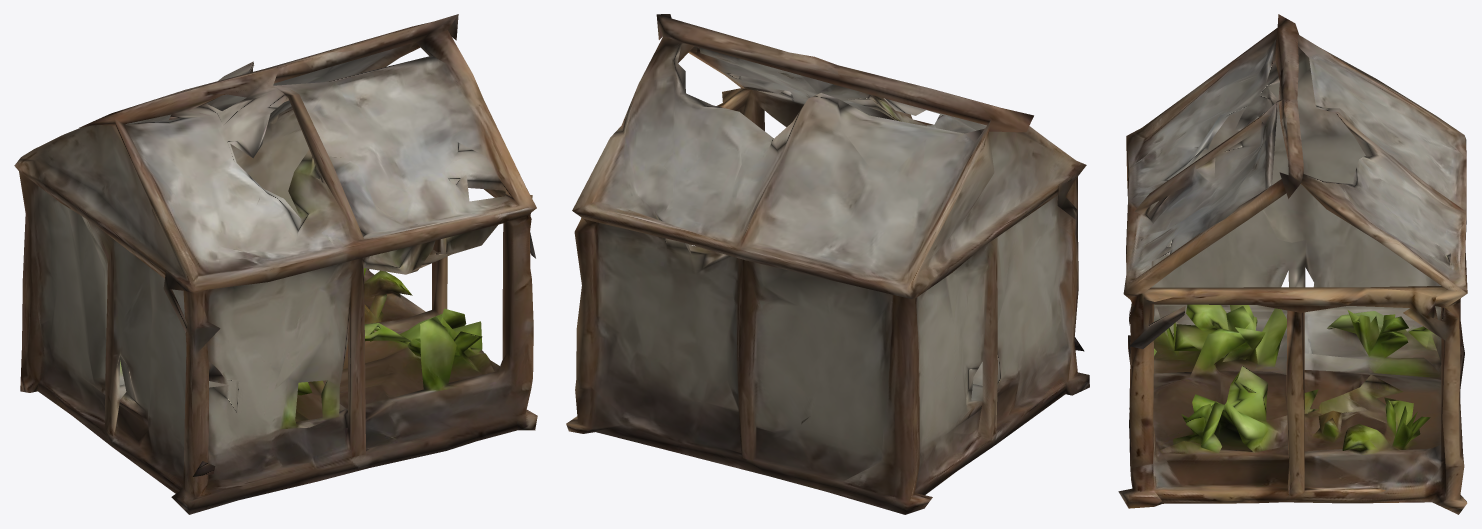
Rendered from b_greenhouse.glb.
3 views of the same model, side by side, from view 1: azimuth 30°, elevation 25°; view 2: azimuth 150°, elevation 25°; view 3: azimuth 270°, elevation 25° (orthographic). The views are drawn at different scales.
Parts seen in each view (by area): view 1: tripo_node_43fa3088-0441-48db-879c-4e6a35383af3; view 2: tripo_node_43fa3088-0441-48db-879c-4e6a35383af3; view 3: tripo_node_43fa3088-0441-48db-879c-4e6a35383af3.
Boxes of the visible parts, x1,y1,x2,y2 form: tripo_node_43fa3088-0441-48db-879c-4e6a35383af3: (14,14,537,514); tripo_node_43fa3088-0441-48db-879c-4e6a35383af3: (566,14,1089,514); tripo_node_43fa3088-0441-48db-879c-4e6a35383af3: (1118,14,1467,514).
Size of the model in its own units: 1 by 0.8931 by 0.8319.
1 material, 1 textured.
